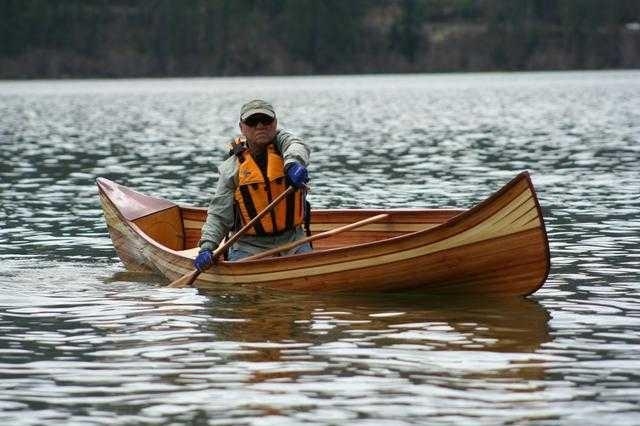kayak: (96, 170, 551, 294)
